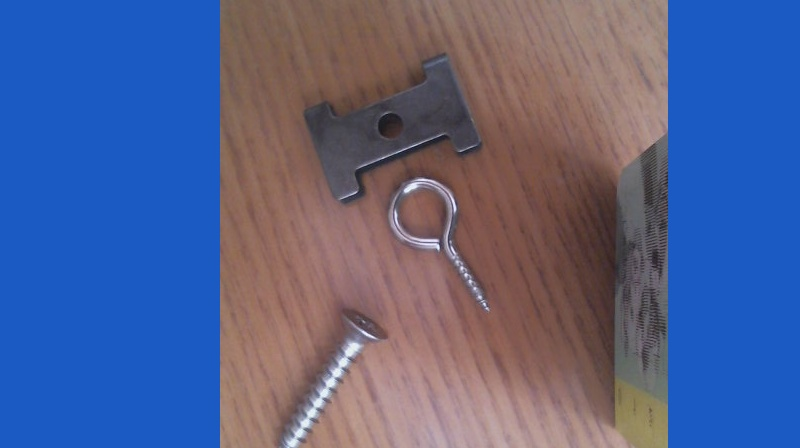O001: (386, 175, 495, 315)
O002: (301, 50, 485, 205)
S001: (274, 306, 392, 447)
